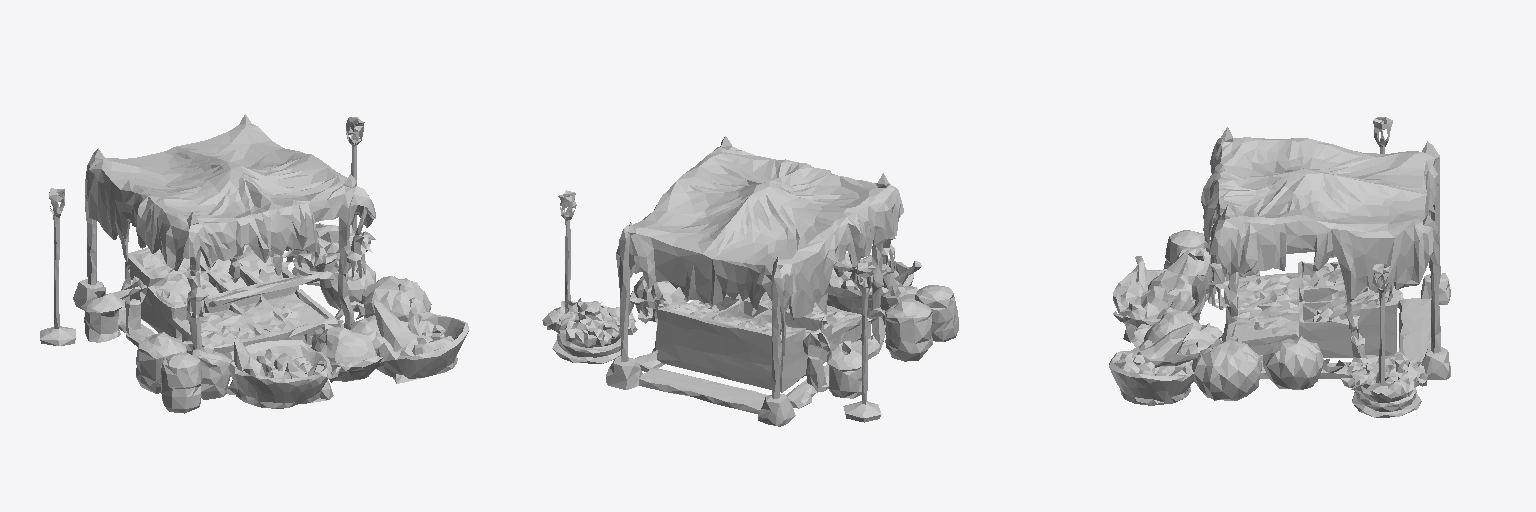
File: Marketplace_Display_1122092509_texture.obj
3 renders of one model, left to right at view 1: azimuth 30°, elevation 25°; view 2: azimuth 150°, elevation 25°; view 3: azimuth 270°, elevation 25°, orthographic.
Parts seen in each view (by area): view 1: Marketplace_Display_[number redacted]_texture; view 2: Marketplace_Display_[number redacted]_texture; view 3: Marketplace_Display_[number redacted]_texture.
Boxes of the visible parts, x1=… form: Marketplace_Display_[number redacted]_texture: x1=40, y1=114, x2=468, y2=413; Marketplace_Display_[number redacted]_texture: x1=542, y1=136, x2=958, y2=426; Marketplace_Display_[number redacted]_texture: x1=1109, y1=117, x2=1450, y2=417.
Size of the model in its own units: 4.03 by 2 by 3.62.